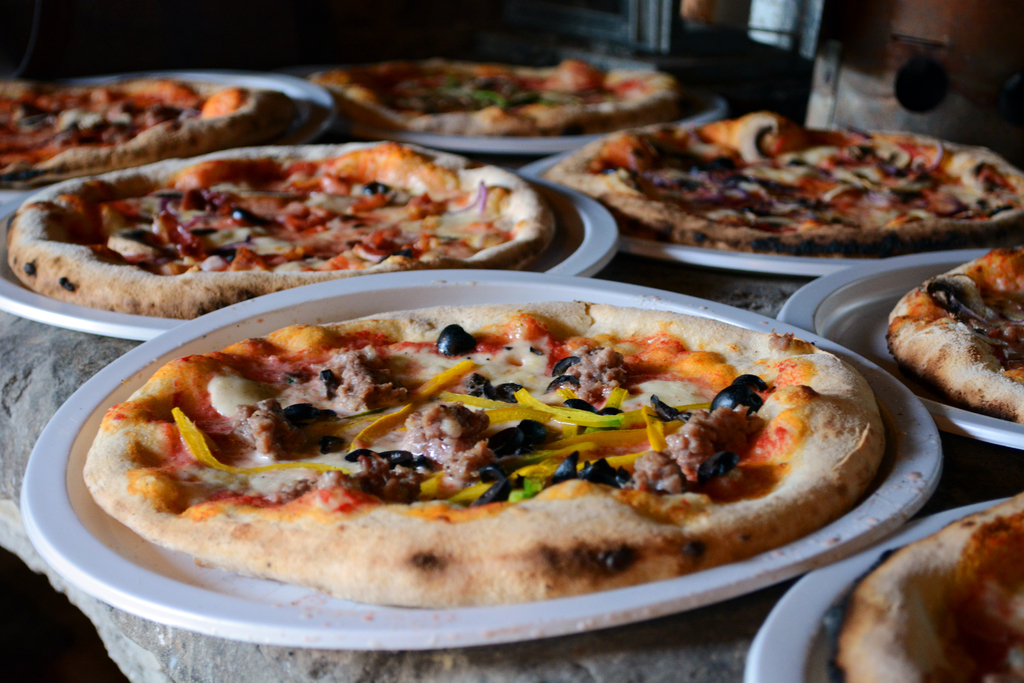Pizza: (87, 296, 908, 621), (6, 144, 554, 317), (538, 112, 1023, 257), (826, 496, 1023, 682), (0, 77, 300, 191), (304, 55, 678, 132), (887, 246, 1023, 427)
